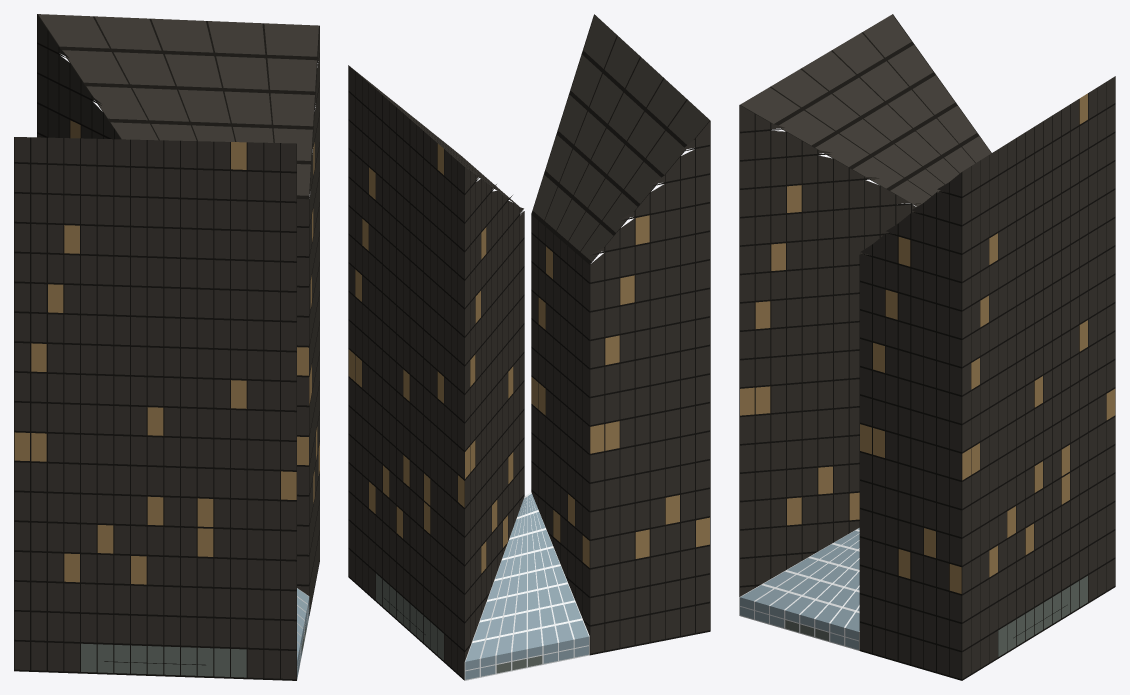
Rendered from pennzoil-place-far.glb.
3 views of the same model, side by side, from view 1: azimuth 30°, elevation 25°; view 2: azimuth 150°, elevation 25°; view 3: azimuth 270°, elevation 25° (orthographic). The views are drawn at different scales.
Visible parts, largest first — view 1: pennzoil-place-0-glass, pennzoil-place-0-mullion, pennzoil-place-0-light, pennzoil-place-0-lobby, pennzoil-place-0-atrium; view 2: pennzoil-place-0-glass, pennzoil-place-0-mullion, pennzoil-place-0-atrium, pennzoil-place-0-light, pennzoil-place-0-frame, pennzoil-place-0-lobby; view 3: pennzoil-place-0-glass, pennzoil-place-0-mullion, pennzoil-place-0-light, pennzoil-place-0-atrium, pennzoil-place-0-lobby, pennzoil-place-0-frame.
Boxes of the visible parts, x1=… form: pennzoil-place-0-glass: x1=14, y1=14, x2=319, y2=679; pennzoil-place-0-mullion: x1=14, y1=14, x2=319, y2=680; pennzoil-place-0-light: x1=14, y1=120, x2=319, y2=584; pennzoil-place-0-lobby: x1=81, y1=623, x2=306, y2=677; pennzoil-place-0-atrium: x1=297, y1=588, x2=309, y2=678; pennzoil-place-0-glass: x1=348, y1=15, x2=709, y2=678; pennzoil-place-0-mullion: x1=348, y1=14, x2=710, y2=680; pennzoil-place-0-atrium: x1=465, y1=494, x2=588, y2=679; pennzoil-place-0-light: x1=348, y1=143, x2=709, y2=573; pennzoil-place-0-frame: x1=464, y1=492, x2=589, y2=680; pennzoil-place-0-lobby: x1=376, y1=573, x2=542, y2=673; pennzoil-place-0-glass: x1=740, y1=14, x2=1115, y2=678; pennzoil-place-0-mullion: x1=739, y1=14, x2=1115, y2=680; pennzoil-place-0-light: x1=740, y1=93, x2=1115, y2=593; pennzoil-place-0-atrium: x1=740, y1=528, x2=859, y2=649; pennzoil-place-0-lobby: x1=785, y1=576, x2=1087, y2=656; pennzoil-place-0-frame: x1=739, y1=528, x2=859, y2=650.
Size of the model in its own units: 106 by 159 by 106.
